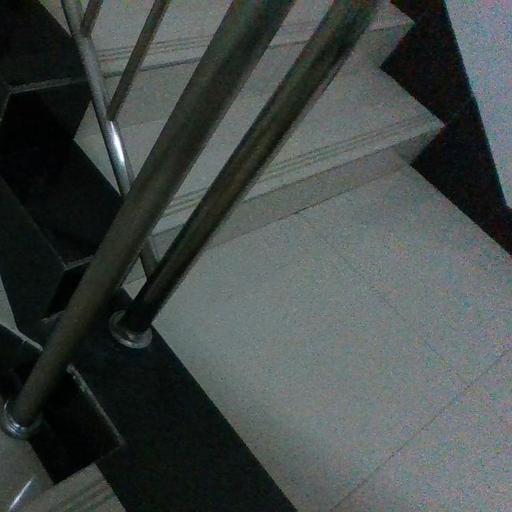Stairs: (234, 0, 442, 226), (153, 0, 330, 256), (118, 0, 230, 173), (448, 0, 512, 198), (93, 0, 153, 97), (77, 104, 116, 187)
